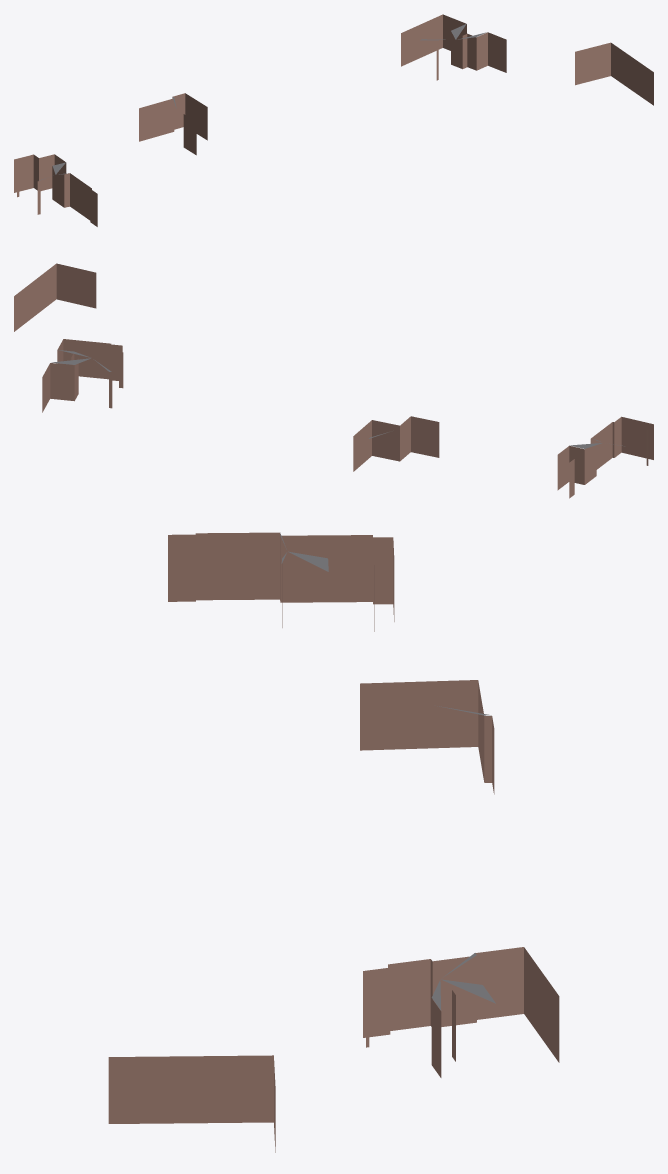
Rendered from c_1644_17819_buildings_residential.glb.
The picture shows the model from 3 angles, top to bottom: view 1: azimuth 30°, elevation 25°; view 2: azimuth 150°, elevation 25°; view 3: azimuth 270°, elevation 25°; orthographic projection. The views are drawn at different scales.
Parts seen in each view (by area): view 1: geometry_0; view 2: geometry_0; view 3: geometry_0.
Boxes of the visible parts, x1,y1,x2,y2 form: geometry_0: (14, 14, 653, 226); geometry_0: (14, 263, 653, 498); geometry_0: (108, 532, 559, 1152).
Bounding box in the file's own units: 197 × 11.08 × 67.03.
